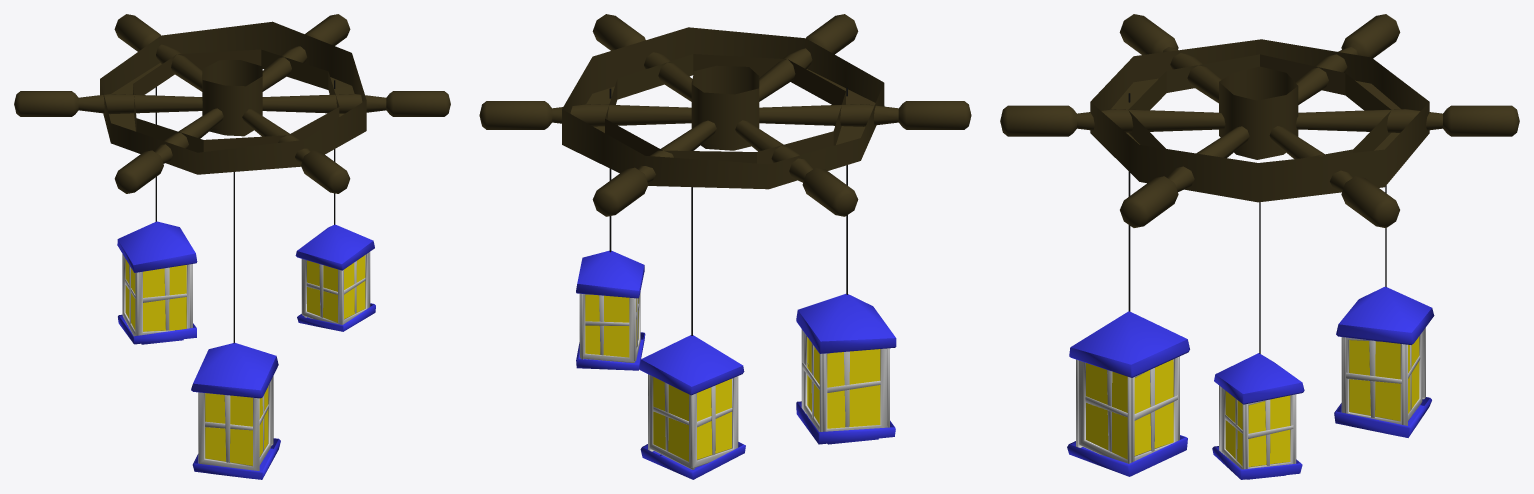
Rendered from HelmLamp.FBX.
3 renders of one model, left to right at view 1: azimuth 30°, elevation 25°; view 2: azimuth 150°, elevation 25°; view 3: azimuth 270°, elevation 25°, orthographic. The views are drawn at different scales.
Parts seen in each view (by area): view 1: HelmLamp; view 2: HelmLamp; view 3: HelmLamp.
Boxes of the visible parts, left/top/right/bottom form: HelmLamp: left=14, top=14, right=450, bottom=479; HelmLamp: left=479, top=14, right=971, bottom=479; HelmLamp: left=1000, top=14, right=1519, bottom=479.
Size of the model in its own units: 3.08 by 3.02 by 3.5.
